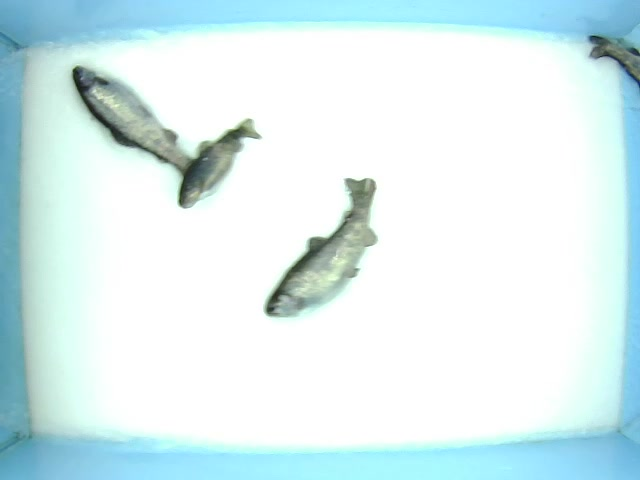fish: (266, 176, 377, 336), (61, 56, 186, 163), (178, 115, 267, 223)
